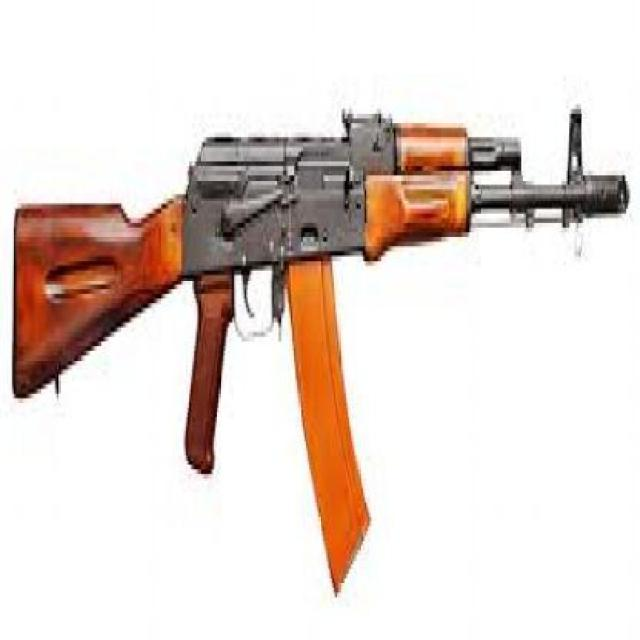weapon: (9, 93, 634, 627)
